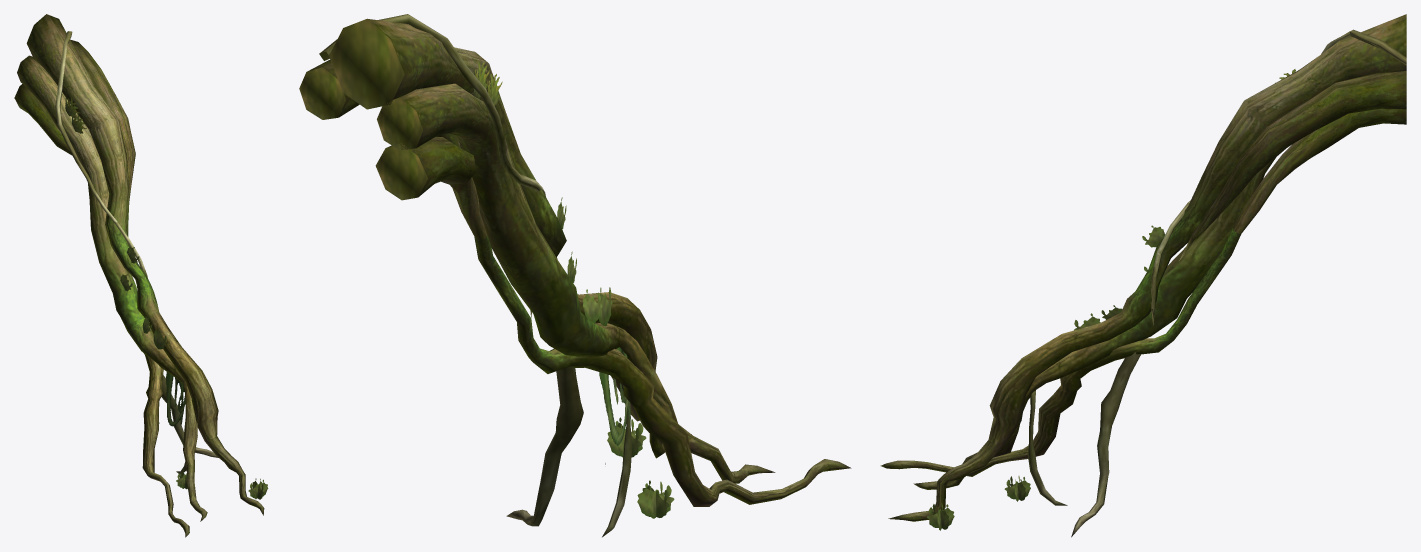
File: S_Tree_Green120_A1.FBX
3 renders of one model, left to right at view 1: azimuth 30°, elevation 25°; view 2: azimuth 150°, elevation 25°; view 3: azimuth 270°, elevation 25°, orthographic. The views are drawn at different scales.
Parts seen in each view (by area): view 1: S_Tree_Green120_A1_1, S_Tree_Green120_A1_3, S_Tree_Green120_A1_2; view 2: S_Tree_Green120_A1_1, S_Tree_Green120_A1_2, S_Tree_Green120_A1_3; view 3: S_Tree_Green120_A1_1, S_Tree_Green120_A1_2, S_Tree_Green120_A1_3.
Boxes of the visible parts, x1,y1,x2,y2 form: S_Tree_Green120_A1_1: [14, 14, 264, 537]; S_Tree_Green120_A1_3: [65, 97, 268, 499]; S_Tree_Green120_A1_2: [55, 31, 218, 474]; S_Tree_Green120_A1_1: [299, 18, 851, 506]; S_Tree_Green120_A1_2: [319, 14, 632, 537]; S_Tree_Green120_A1_3: [472, 62, 674, 518]; S_Tree_Green120_A1_1: [880, 14, 1406, 521]; S_Tree_Green120_A1_2: [1028, 29, 1406, 537]; S_Tree_Green120_A1_3: [926, 69, 1295, 530].
Size of the model in its own units: 63.28 by 201 by 195.
